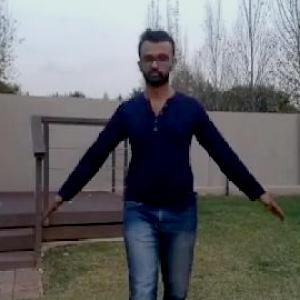land: (68, 30, 260, 299)
